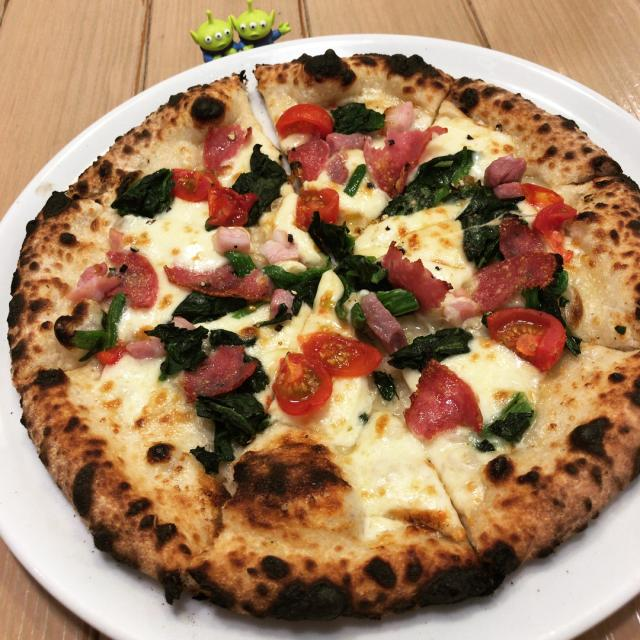pepperoni: (403, 359, 483, 437), (364, 125, 444, 196), (472, 253, 558, 312), (163, 264, 272, 304), (184, 346, 256, 399), (102, 252, 160, 308), (200, 126, 252, 168), (497, 217, 542, 264), (286, 143, 329, 180)
pizza: (7, 51, 640, 624)
tomatoes: (483, 308, 566, 376), (298, 328, 388, 381), (275, 354, 331, 417), (276, 102, 334, 142), (536, 201, 574, 262), (202, 188, 258, 225), (293, 190, 341, 228), (172, 170, 218, 201), (522, 180, 568, 206)
